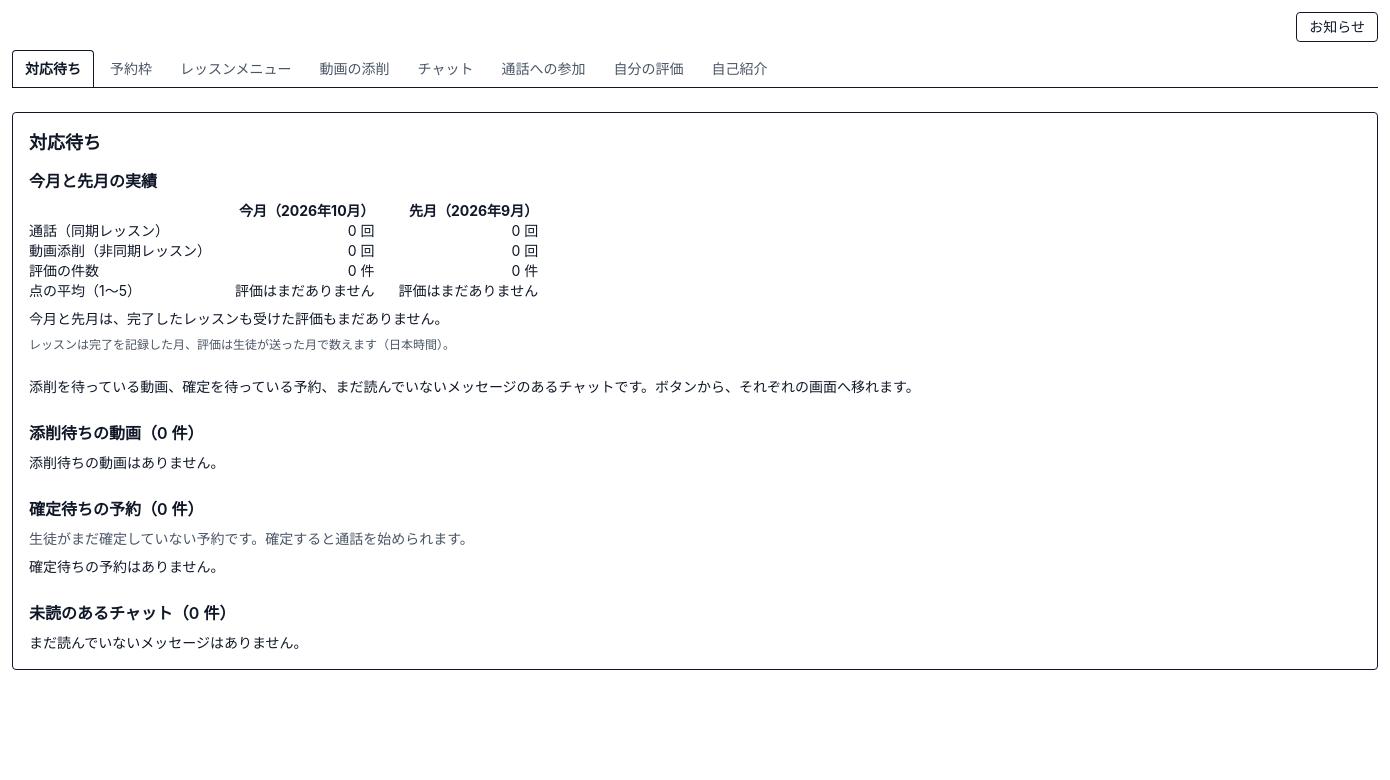
Test: 自分の評価 › コーチの画面の「自分の評価」は、開いたときから本人の評価を出す
Click the tab "自分の評価" at (648, 68), box [602, 50, 696, 87]
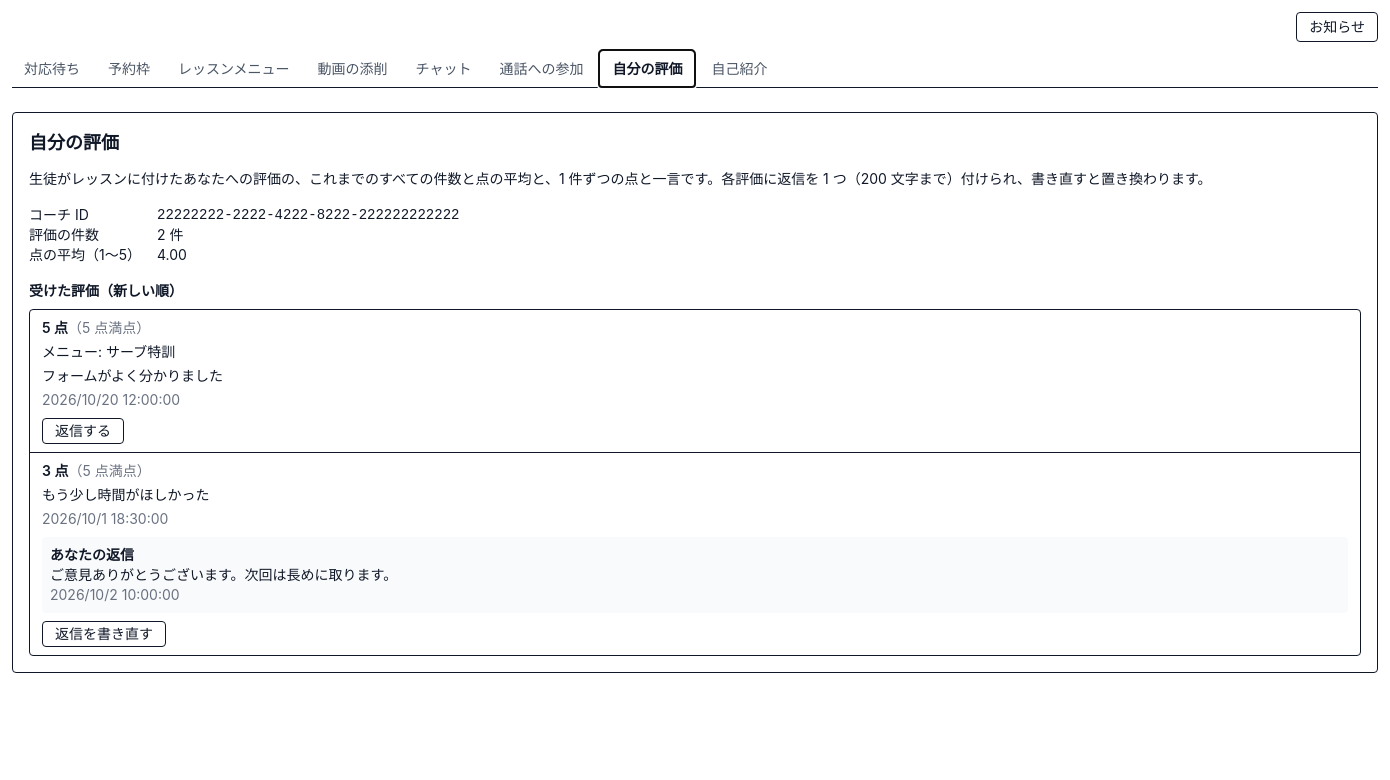
Now the list named "評価の一覧" is shown, box [29, 309, 1361, 656]
